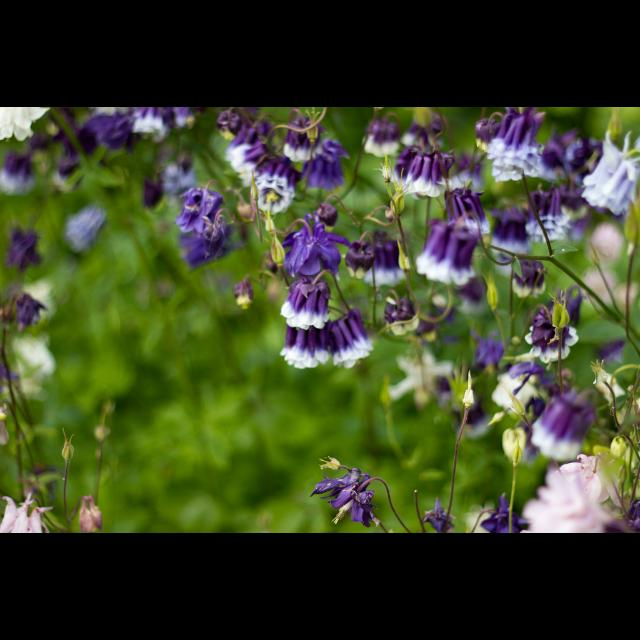Flower: (1, 107, 640, 533), (274, 248, 378, 378)
